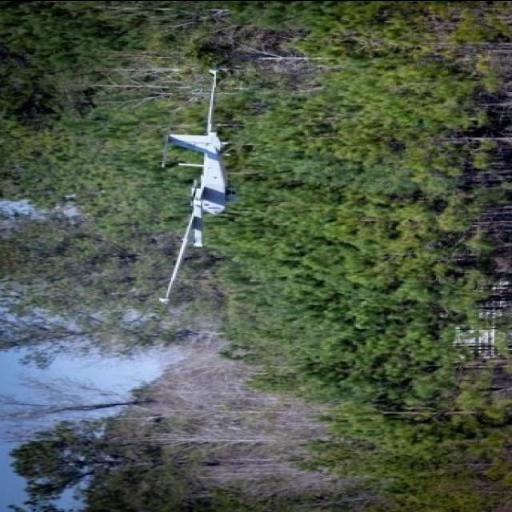uav: (158, 66, 230, 308)
